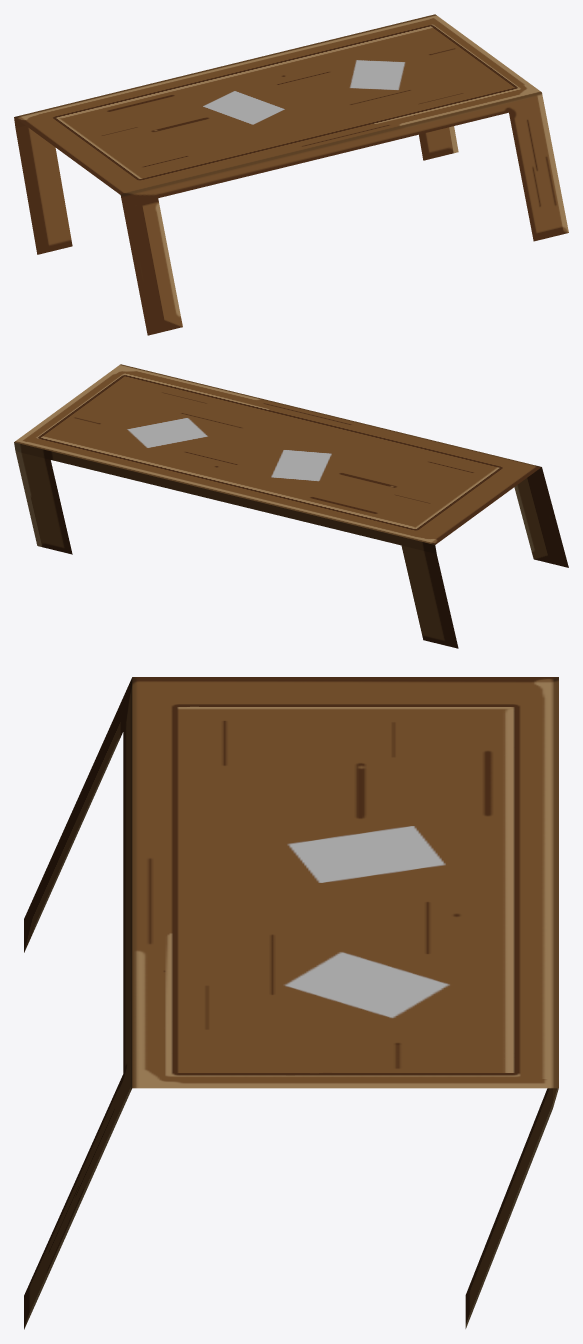
The model's file is tabl.FBX.
3 renders of one model, top to bottom at view 1: azimuth 30°, elevation 25°; view 2: azimuth 150°, elevation 25°; view 3: azimuth 270°, elevation 25°, orthographic. The views are drawn at different scales.
Parts seen in each view (by area): view 1: table; view 2: table; view 3: table.
Boxes of the visible parts, left/top/right/bottom form: table: left=14, top=14, right=568, bottom=335; table: left=14, top=364, right=568, bottom=648; table: left=24, top=677, right=558, bottom=1329.
Bounding box in the file's own units: 62.71 × 17.19 × 34.47.
Materials: 1 (1 with a texture image).
